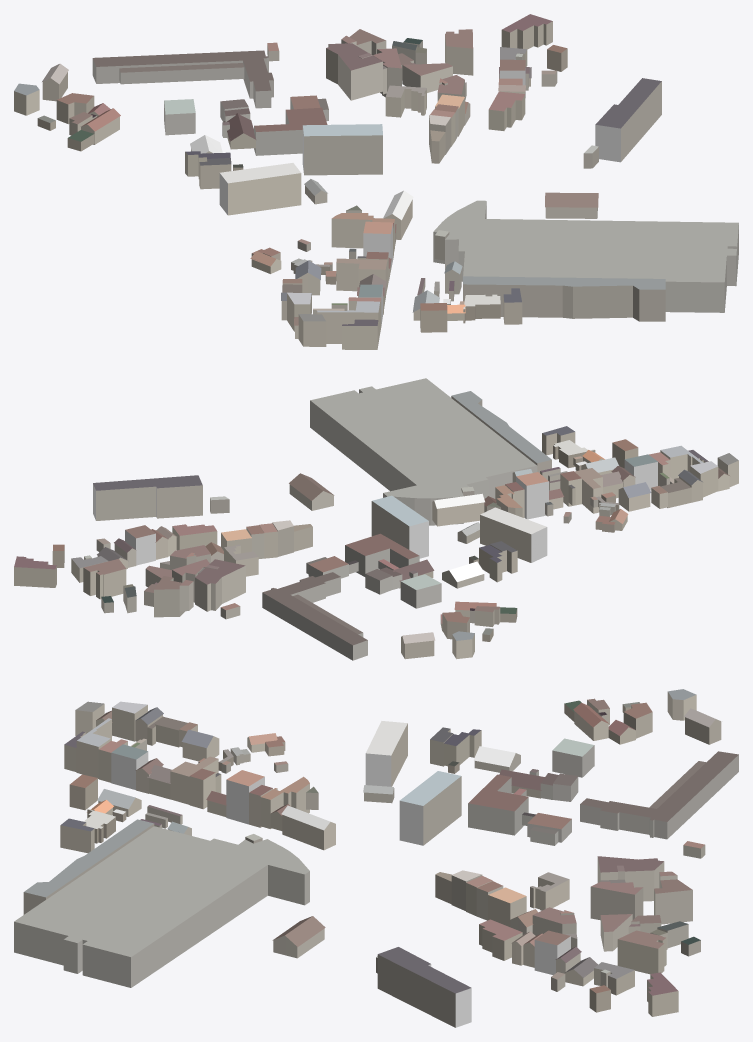
3 views of the same model, one above another, from view 1: azimuth 30°, elevation 25°; view 2: azimuth 150°, elevation 25°; view 3: azimuth 270°, elevation 25° (orthographic). The views are drawn at different scales.
Visible parts, largest first — view 1: tuile; view 2: tuile; view 3: tuile.
Boxes of the visible parts, left/top/right/bottom form: tuile: left=14, top=14, right=738, bottom=349; tuile: left=14, top=378, right=738, bottom=660; tuile: left=14, top=689, right=738, bottom=1027.
Bounding box in the file's own units: 252 × 33.73 × 289.
